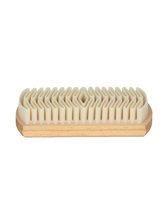other: (14, 85, 157, 138)
